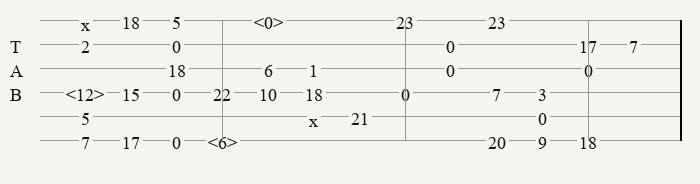0: (172, 36, 185, 52), (172, 132, 185, 148), (172, 84, 185, 100), (401, 84, 414, 100), (446, 36, 459, 52), (446, 60, 459, 76), (538, 108, 551, 124), (584, 60, 597, 76)
1: (309, 60, 322, 76)
10: (259, 84, 281, 100)
15: (122, 84, 144, 100)
17: (122, 132, 144, 148), (579, 36, 601, 52)
18: (122, 12, 144, 28), (168, 60, 190, 76), (305, 84, 327, 100), (579, 132, 601, 148)
2: (81, 36, 94, 52)
20: (488, 132, 510, 148)
21: (351, 108, 373, 124)
22: (213, 84, 235, 100)
23: (396, 12, 418, 28), (488, 12, 510, 28)
3: (538, 84, 551, 100)
5: (81, 108, 94, 124), (172, 12, 185, 28)
6: (264, 60, 277, 76)
7: (81, 132, 94, 148), (492, 84, 505, 100), (629, 36, 642, 52)
9: (538, 132, 551, 148)
harmonic: (66, 84, 108, 100), (208, 132, 241, 148), (254, 12, 287, 28)
x: (81, 14, 94, 26), (309, 110, 322, 122)
